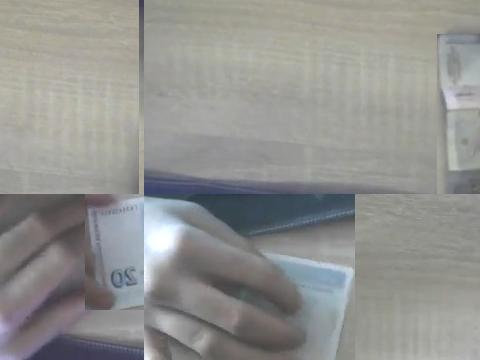10leva: (437, 34, 480, 194)
20leva: (144, 196, 355, 360), (85, 195, 144, 310)
